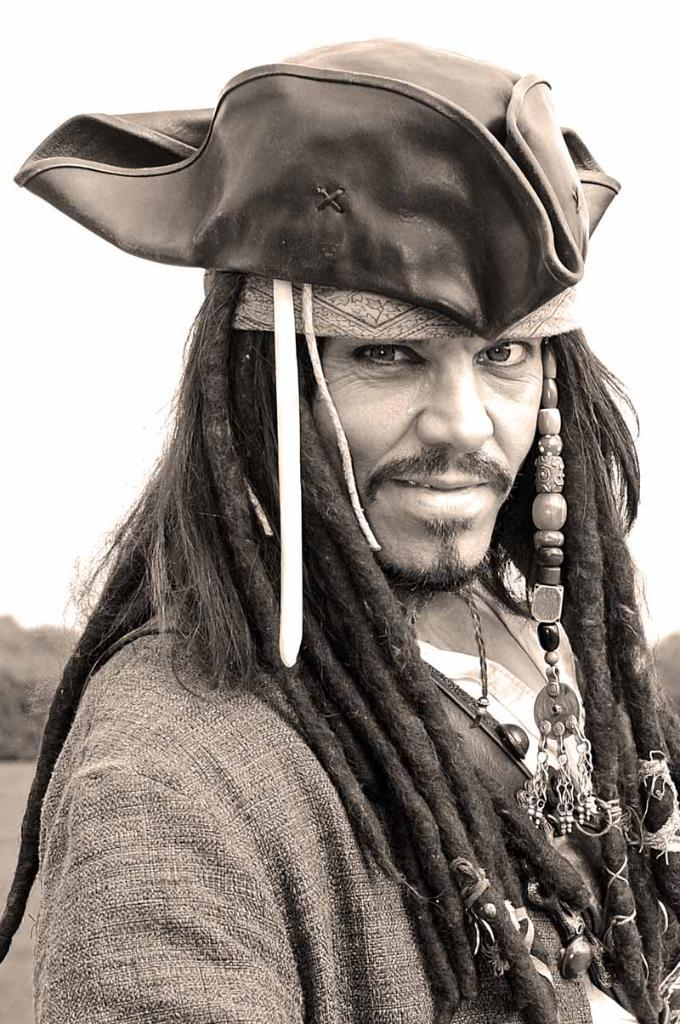Hat: (8, 25, 629, 346)
